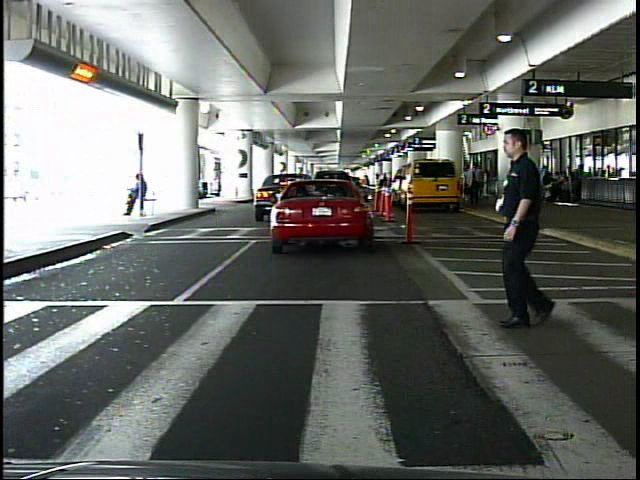person: (491, 131, 573, 334)
